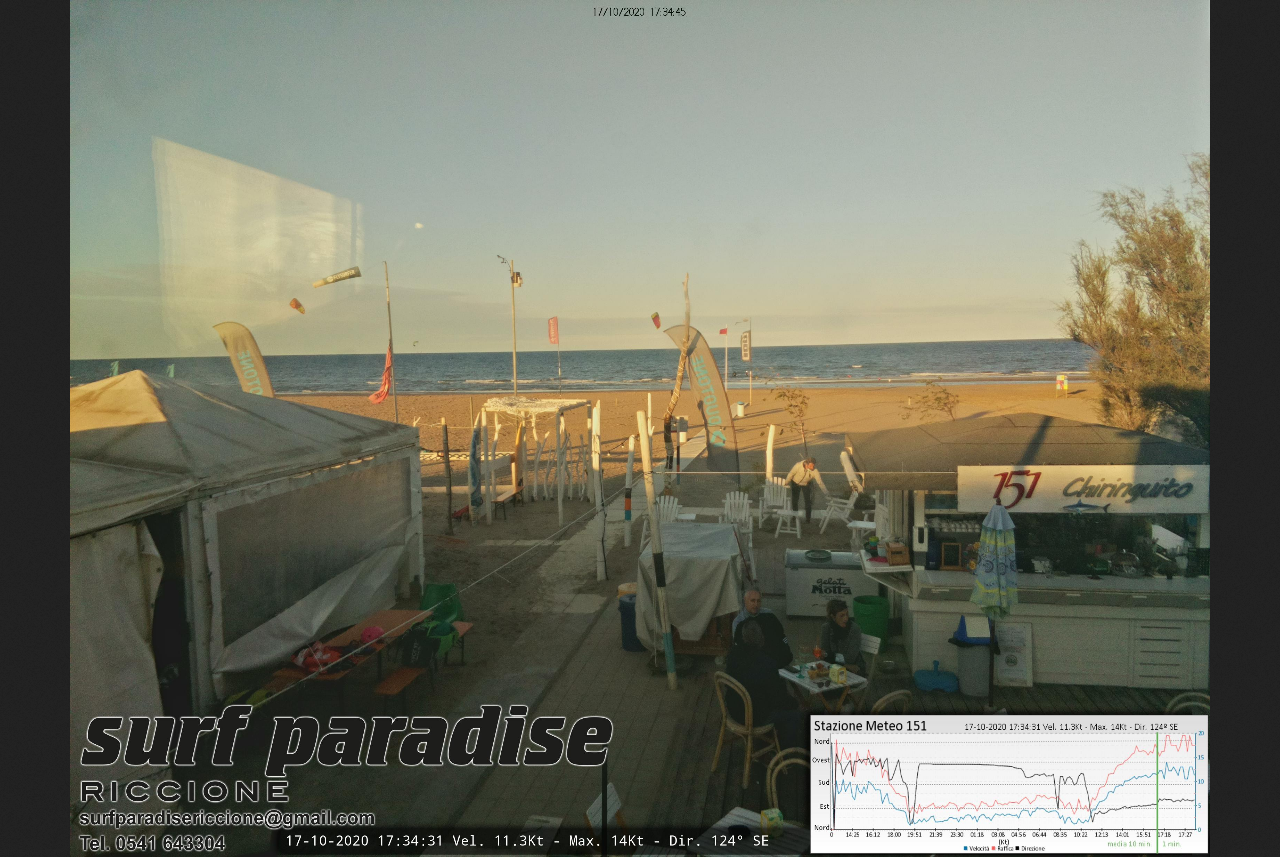yes: (715, 325, 725, 336)
